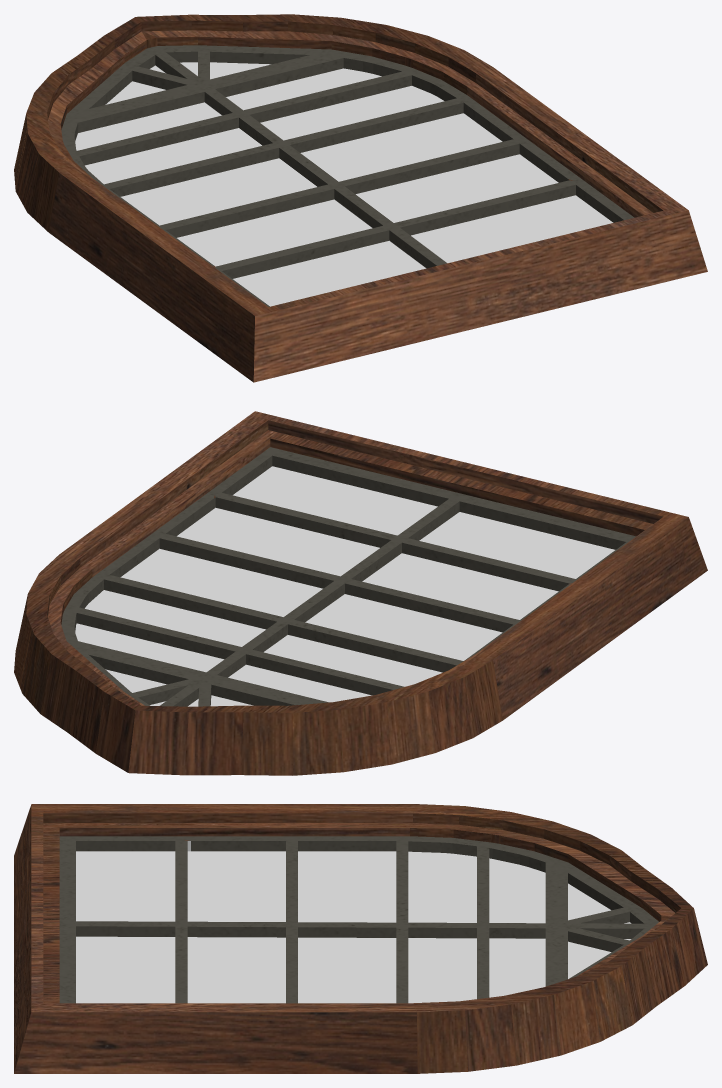
File: Window4.fbx
3 views of the same model, one above another, from view 1: azimuth 30°, elevation 25°; view 2: azimuth 150°, elevation 25°; view 3: azimuth 270°, elevation 25° (orthographic).
Visible parts, largest first — view 1: OknoTypBFIX; view 2: OknoTypBFIX; view 3: OknoTypBFIX.
Part boxes in pixels (x1=…): OknoTypBFIX: x1=14, y1=14, x2=707, y2=382; OknoTypBFIX: x1=14, y1=411, x2=707, y2=775; OknoTypBFIX: x1=14, y1=804, x2=707, y2=1073.
Bounding box in the file's own units: 245 × 31.42 × 329.
